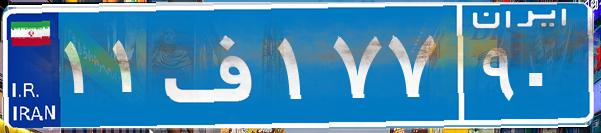0: (525, 38, 570, 115)
1: (273, 28, 330, 110), (57, 26, 110, 107), (110, 28, 158, 105)
7: (385, 28, 445, 110), (330, 28, 385, 110)
9: (475, 38, 525, 113)
ف: (158, 15, 273, 115)
